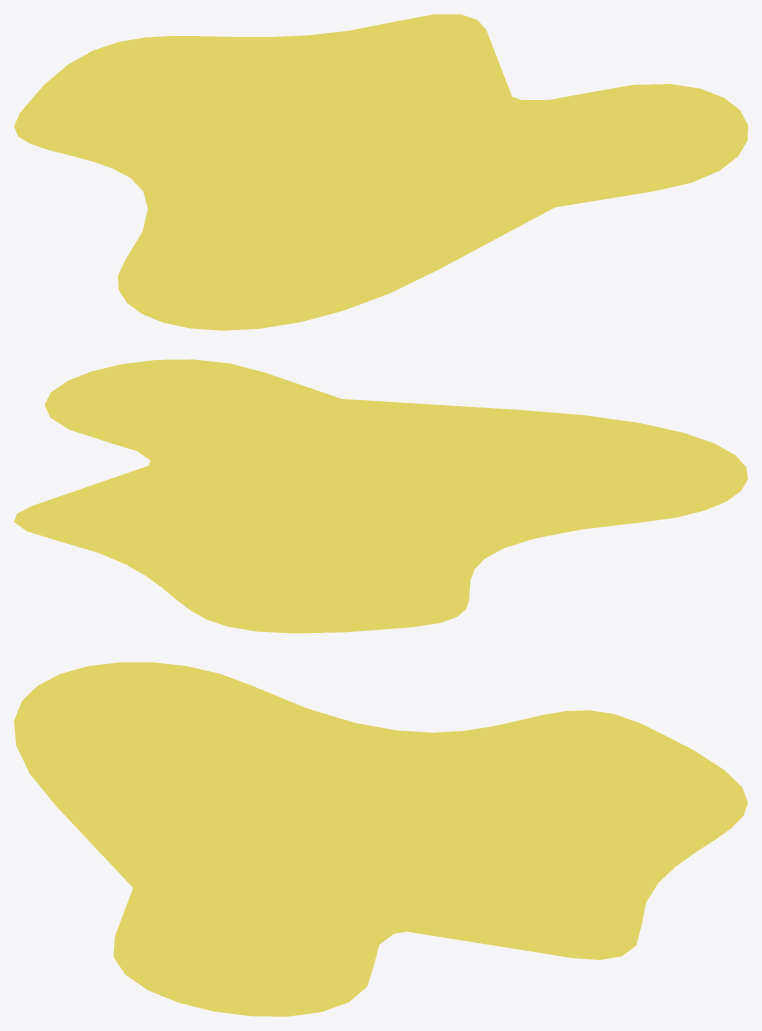
File: plama1.fbx
3 renders of one model, top to bottom at view 1: azimuth 30°, elevation 25°; view 2: azimuth 150°, elevation 25°; view 3: azimuth 270°, elevation 25°, orthographic. The views are drawn at different scales.
Visible parts, largest first — view 1: plama1; view 2: plama1; view 3: plama1.
Part boxes in pixels (left/top/right/bottom): plama1: left=14, top=14, right=747, bottom=330; plama1: left=14, top=359, right=747, bottom=633; plama1: left=14, top=662, right=747, bottom=1016.
Bounding box in the file's own units: 215 × 3.06e-05 × 188.
